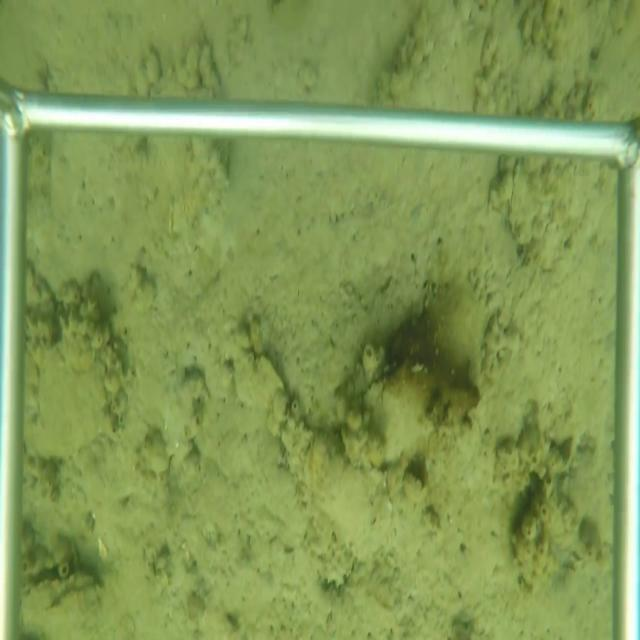Oyster-Indeterminate: (284, 424, 396, 568), (36, 329, 118, 466)
